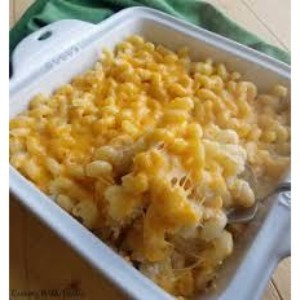cheese_brain food: (92, 103, 248, 205)
